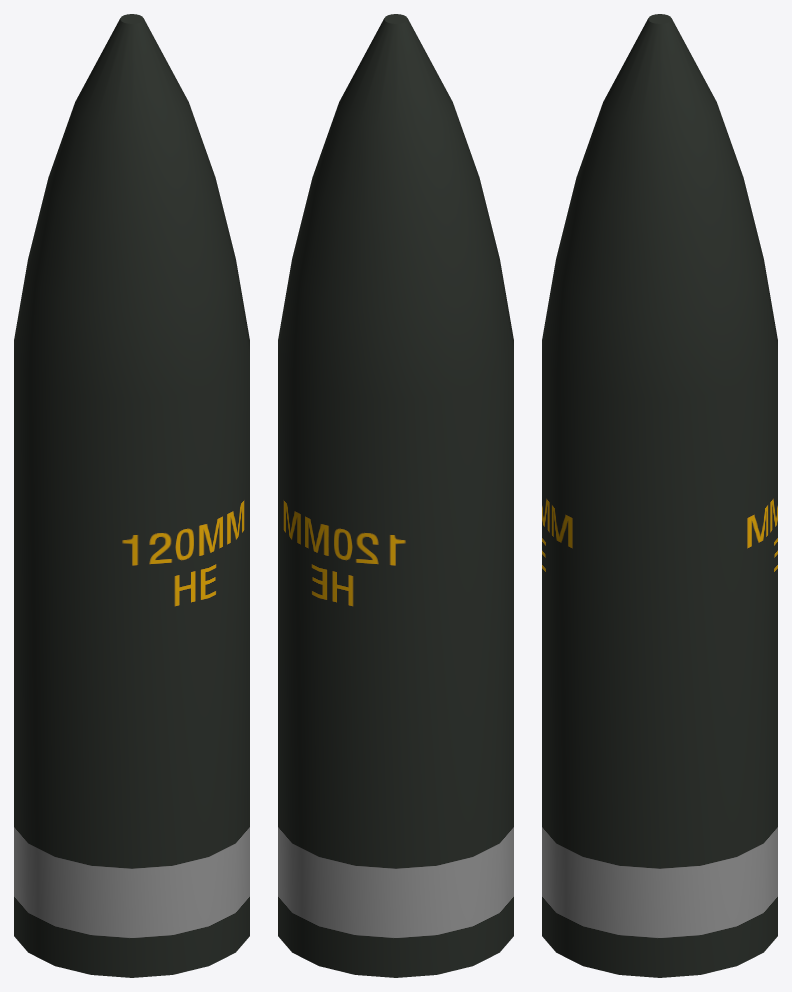
The model's file is TANKSHELL_HE.FBX.
The picture shows the model from 3 angles, left to right: view 1: azimuth 30°, elevation 25°; view 2: azimuth 150°, elevation 25°; view 3: azimuth 270°, elevation 25°; orthographic projection.
Parts seen in each view (by area): view 1: Cylinder002; view 2: Cylinder002; view 3: Cylinder002.
Part boxes in pixels (bbox=[...]): Cylinder002: bbox=[14, 14, 249, 977]; Cylinder002: bbox=[278, 14, 513, 977]; Cylinder002: bbox=[542, 14, 777, 977].
Size of the model in its own units: 54.2 by 227 by 53.38.
Materials: 1 (1 with a texture image).
